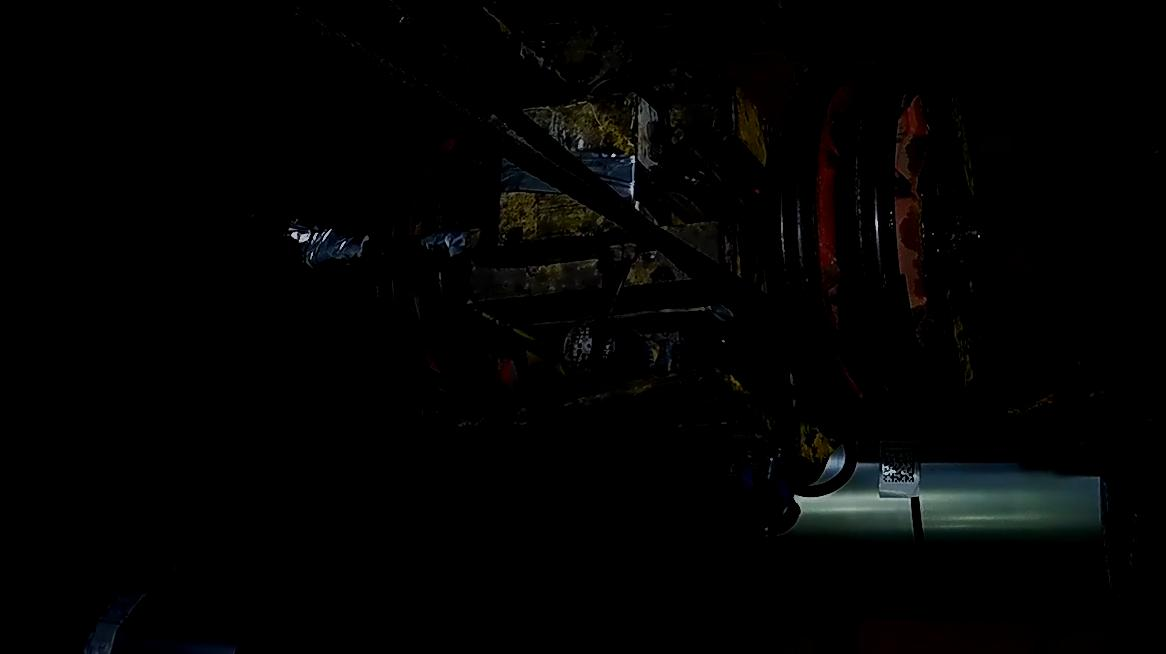data matrix: (882, 448, 919, 487)
